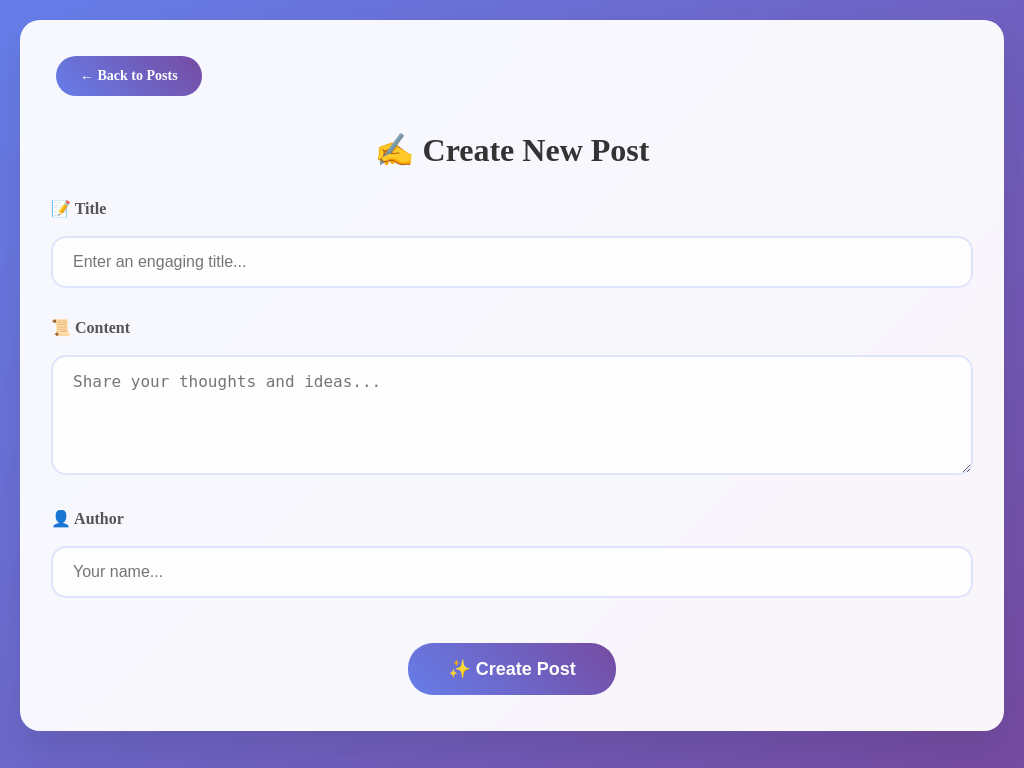
Blog App Combined Tests › Axios_creates post successfully
Type "My Title" into the field with test id "title-input" at coordinates (512, 262), box [51,236,973,288]
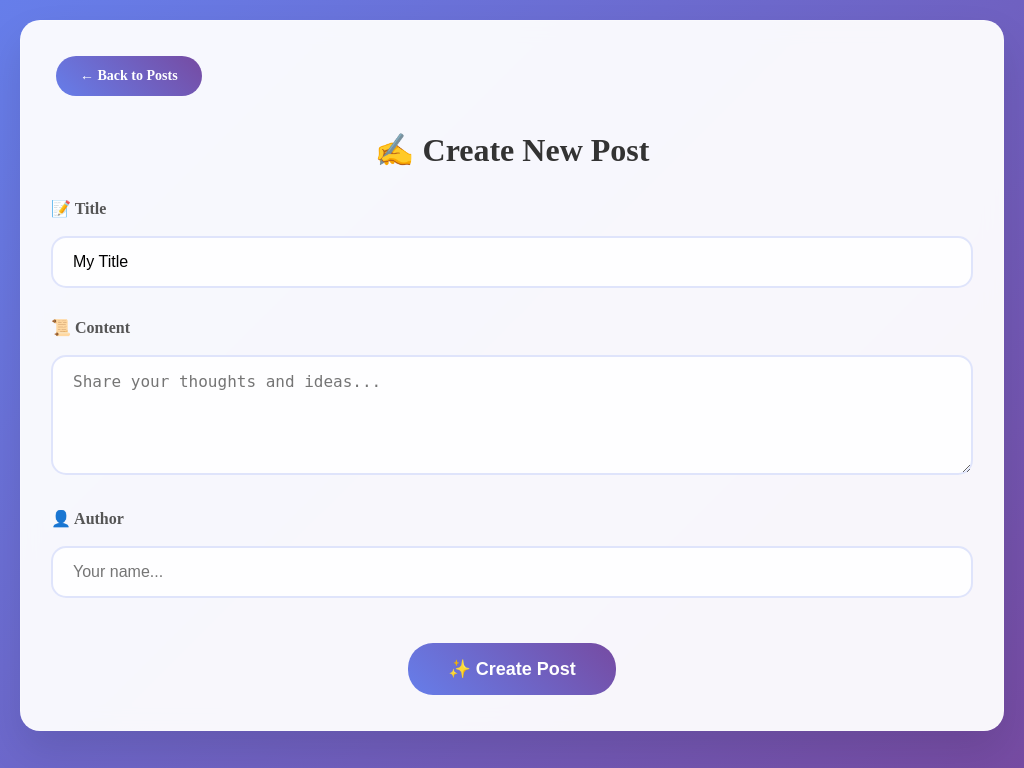
Type "Content" into the text box with test id "content-input" at coordinates (512, 415), box [51,355,973,475]
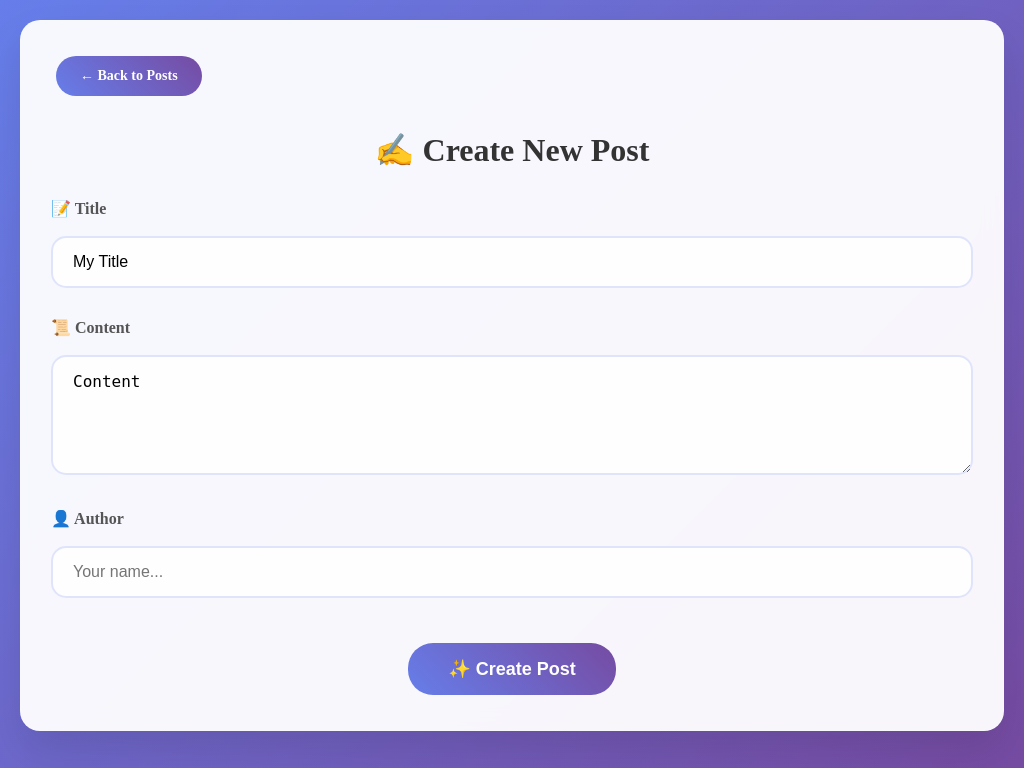
Type "Jane" into the field with test id "author-input" at coordinates (512, 572), box [51,546,973,598]
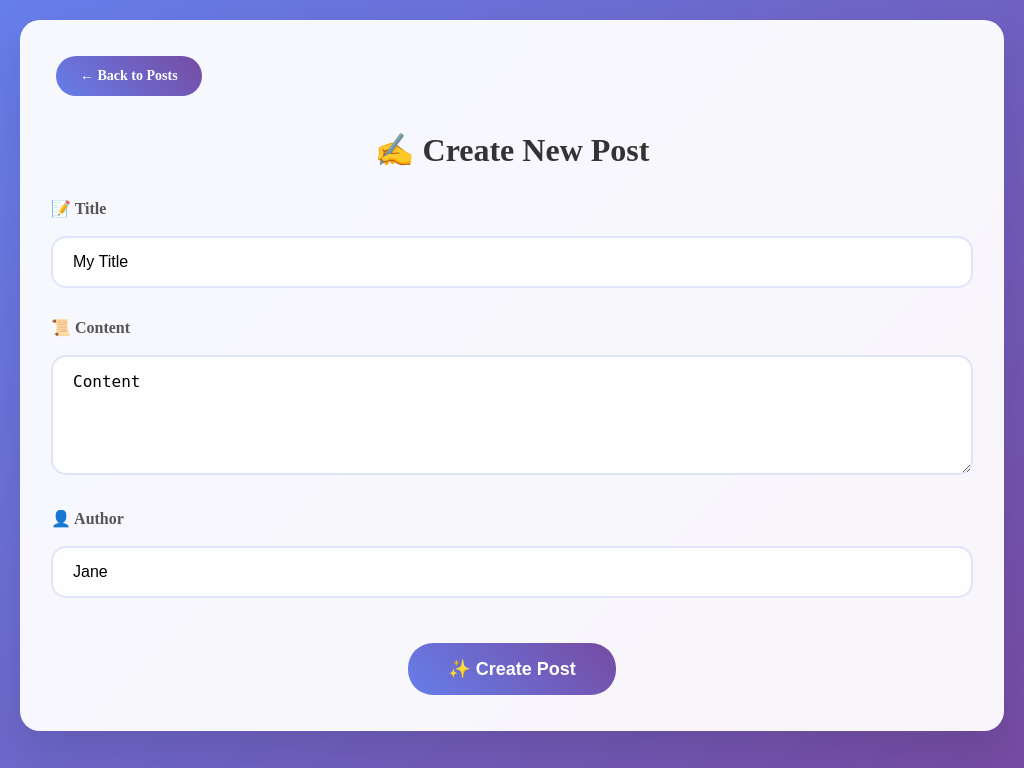
Click the button "✨ Create Post" at coordinates (512, 669), box [408,643,616,695]
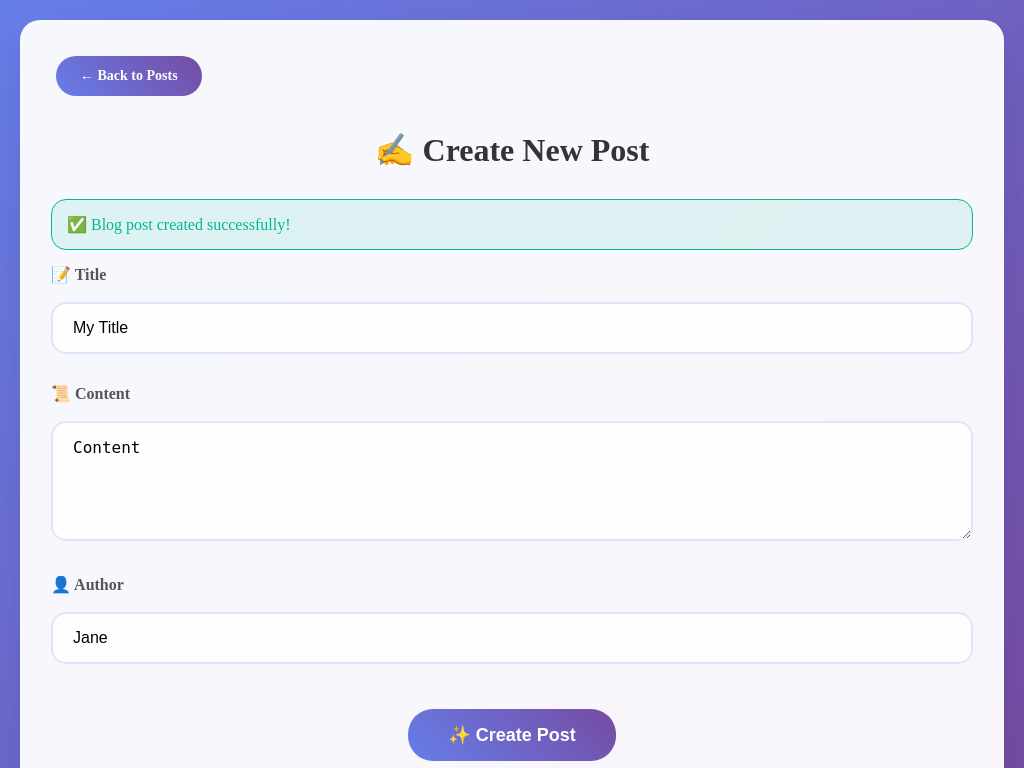
Check: the text "✅ Blog post created successfully!" is shown, box [51,199,973,250]
